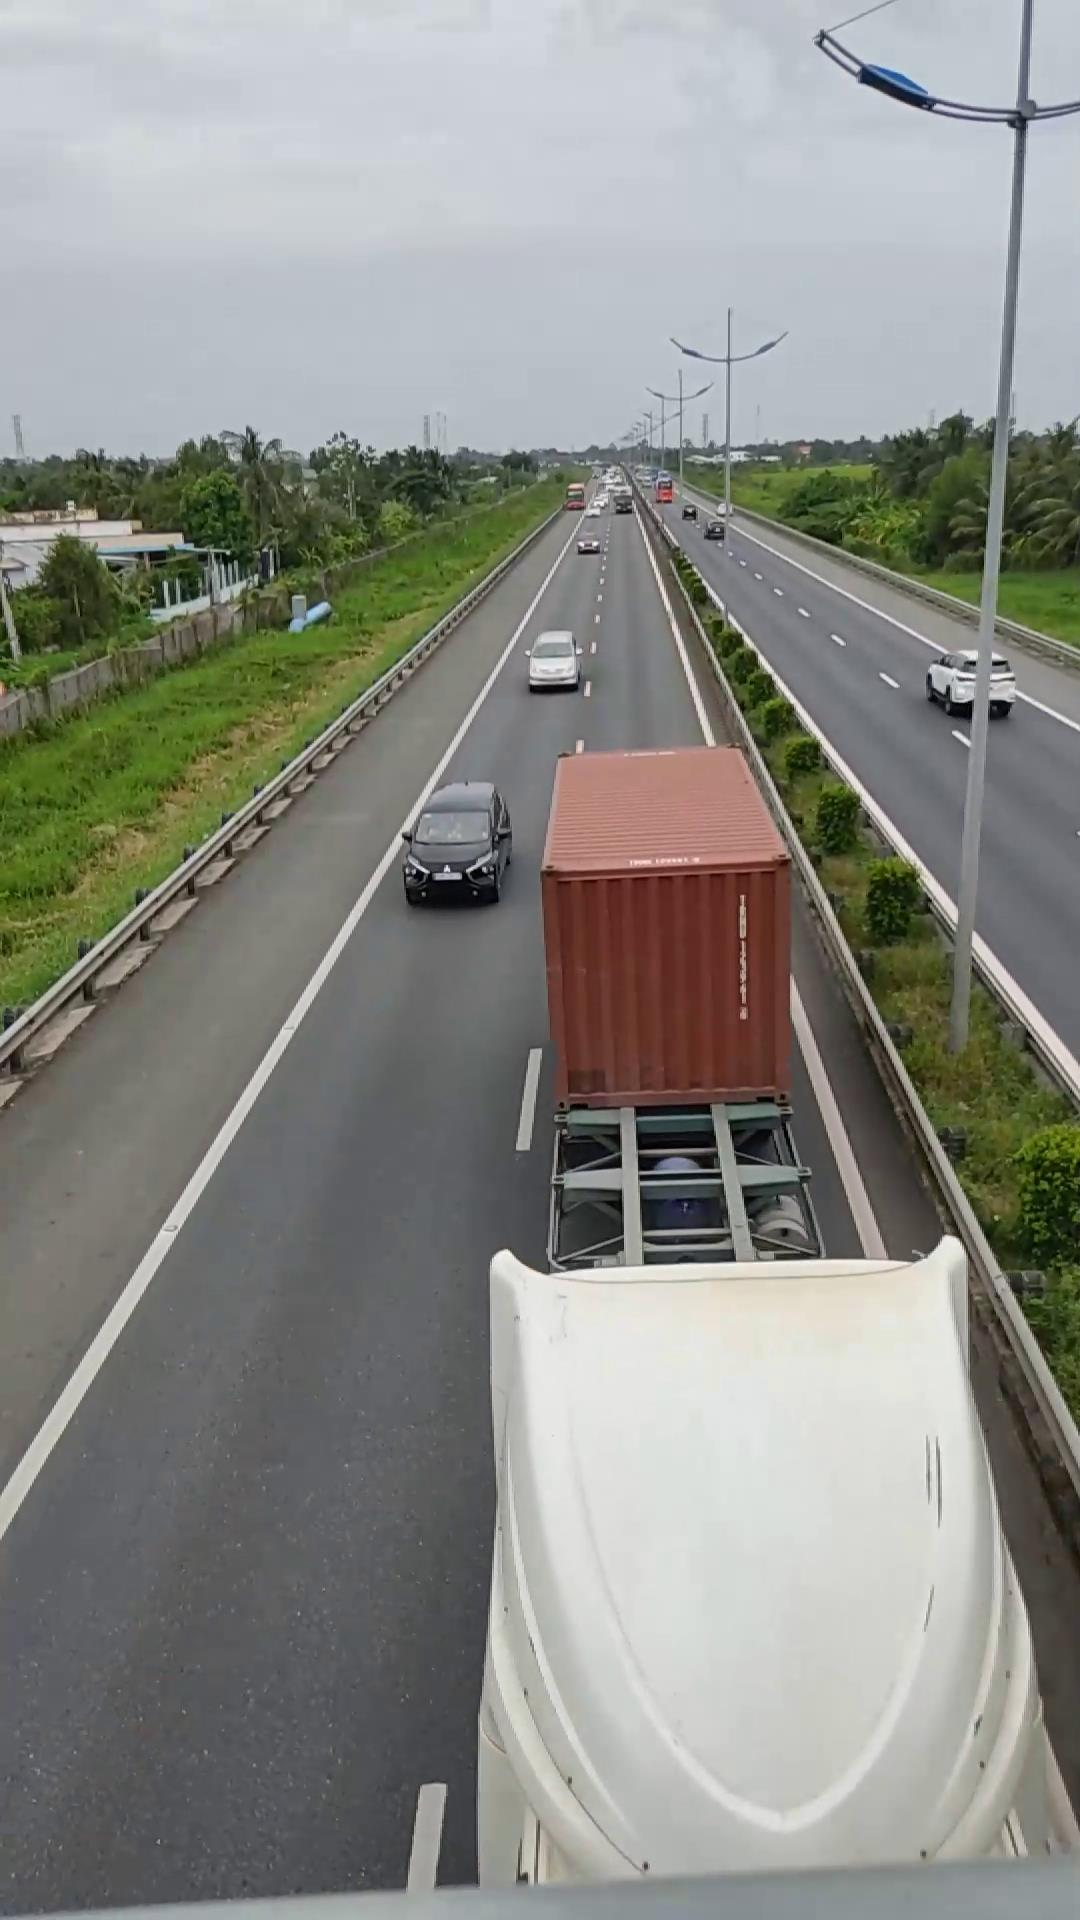car: (400, 778, 515, 904), (524, 629, 592, 692)
container: (463, 733, 1007, 1889)
